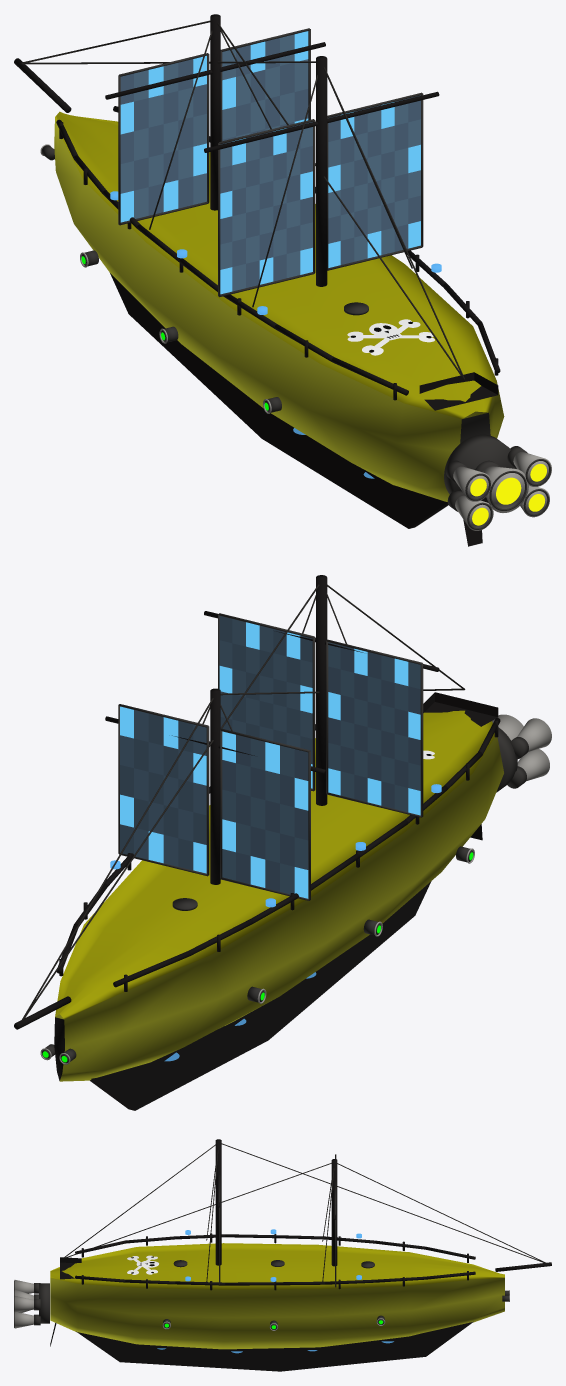
Rendered from Ship_Pirate_9.glb.
3 views of the same model, one above another, from view 1: azimuth 30°, elevation 25°; view 2: azimuth 150°, elevation 25°; view 3: azimuth 270°, elevation 25° (orthographic). The views are drawn at different scales.
Parts seen in each view (by area): view 1: Hull_MetalSailingShipBody, SolarPanelSail_Main_01_RigidHeritageArray, SolarPanelSail_Fore_01_RigidHeritageArray, Keel_DeepSpaceSailingKeel, Mast_Main_DarkMetalHeritageSpar, Mast_Fore_DarkMetalHeritageSpar, EngineDeck_AftTransomArmoredMount, EngineEmitter, SternTransom_LowReinforcedAftDeckCap, Yard_Main_01_SolarPanelCrossSpar, Yard_Fore_01_SolarPanelCrossSpar, EngineBell_Center_IronRocketNozzle (+3 smaller); view 2: Hull_MetalSailingShipBody, SolarPanelSail_Fore_01_RigidHeritageArray, SolarPanelSail_Main_01_RigidHeritageArray, Keel_DeepSpaceSailingKeel, Mast_Main_DarkMetalHeritageSpar, Mast_Fore_DarkMetalHeritageSpar, SternTransom_LowReinforcedAftDeckCap, RiggingStay_Main_ForwardTautLine, RiggingStay_Fore_ForwardTautLine, EngineBell_PortUpper_IronRocketNozzle, EngineDeck_AftTransomArmoredMount, EngineBell_PortLower_IronRocketNozzle; view 3: Hull_MetalSailingShipBody, Keel_DeepSpaceSailingKeel, Mast_Main_DarkMetalHeritageSpar, Mast_Fore_DarkMetalHeritageSpar, RiggingStay_Main_ForwardTautLine, EngineDeck_AftTransomArmoredMount, RiggingStay_Fore_AftTautLine, RiggingStay_Fore_ForwardTautLine.
Boxes of the visible parts, box(x1,y1,x2,y2) form: Hull_MetalSailingShipBody: box(54, 111, 504, 501); SolarPanelSail_Main_01_RigidHeritageArray: box(220, 95, 420, 294); SolarPanelSail_Fore_01_RigidHeritageArray: box(120, 31, 308, 222); Keel_DeepSpaceSailingKeel: box(110, 273, 448, 528); Mast_Main_DarkMetalHeritageSpar: box(316, 56, 327, 286); Mast_Fore_DarkMetalHeritageSpar: box(210, 14, 220, 210); EngineDeck_AftTransomArmoredMount: box(444, 434, 516, 502); EngineEmitter: box(470, 464, 546, 525); SternTransom_LowReinforcedAftDeckCap: box(419, 372, 498, 410); Yard_Main_01_SolarPanelCrossSpar: box(204, 91, 439, 152); Yard_Fore_01_SolarPanelCrossSpar: box(105, 42, 325, 99); EngineBell_Center_IronRocketNozzle: box(483, 466, 528, 512); Hull_MetalSailingShipBody: box(54, 710, 503, 1081); SolarPanelSail_Fore_01_RigidHeritageArray: box(120, 706, 308, 898); SolarPanelSail_Main_01_RigidHeritageArray: box(219, 616, 420, 815); Keel_DeepSpaceSailingKeel: box(90, 881, 431, 1110); Mast_Main_DarkMetalHeritageSpar: box(316, 575, 327, 805); Mast_Fore_DarkMetalHeritageSpar: box(210, 688, 220, 884); SternTransom_LowReinforcedAftDeckCap: box(423, 692, 498, 726); RiggingStay_Main_ForwardTautLine: box(23, 584, 319, 1019); RiggingStay_Fore_ForwardTautLine: box(21, 698, 213, 1020); EngineBell_PortUpper_IronRocketNozzle: box(517, 718, 551, 751); EngineDeck_AftTransomArmoredMount: box(496, 727, 517, 792); EngineBell_PortLower_IronRocketNozzle: box(517, 749, 549, 781); Hull_MetalSailingShipBody: box(50, 1243, 504, 1349); Keel_DeepSpaceSailingKeel: box(76, 1321, 473, 1371); Mast_Main_DarkMetalHeritageSpar: box(215, 1139, 221, 1265); Mast_Fore_DarkMetalHeritageSpar: box(331, 1159, 337, 1266); RiggingStay_Main_ForwardTautLine: box(221, 1143, 545, 1263); EngineDeck_AftTransomArmoredMount: box(39, 1283, 49, 1323); RiggingStay_Fore_AftTautLine: box(63, 1163, 331, 1258); RiggingStay_Fore_ForwardTautLine: box(337, 1163, 546, 1262).
Bounding box in the file's own units: 2 × 3.45 × 7.31.
